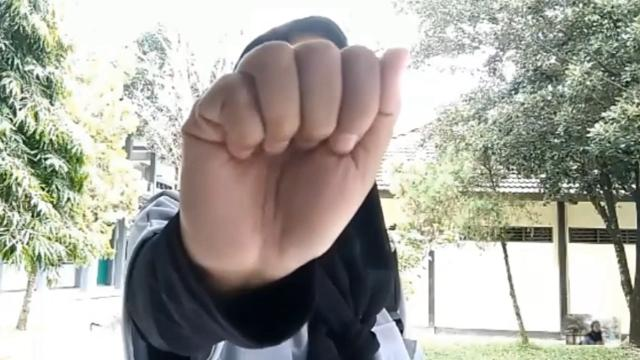A: (178, 44, 416, 288)
